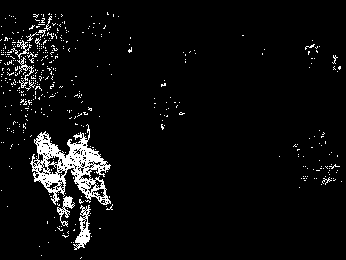person: (64, 135, 113, 248), (29, 131, 75, 238)
